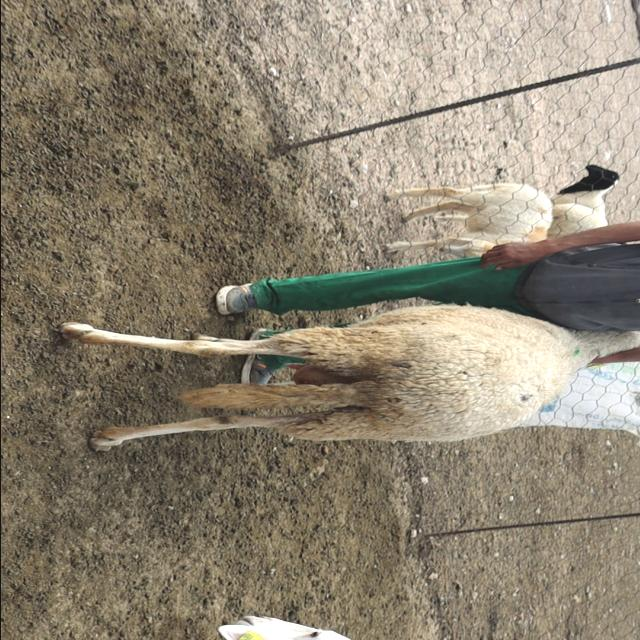Score_4: (60, 304, 640, 450)
